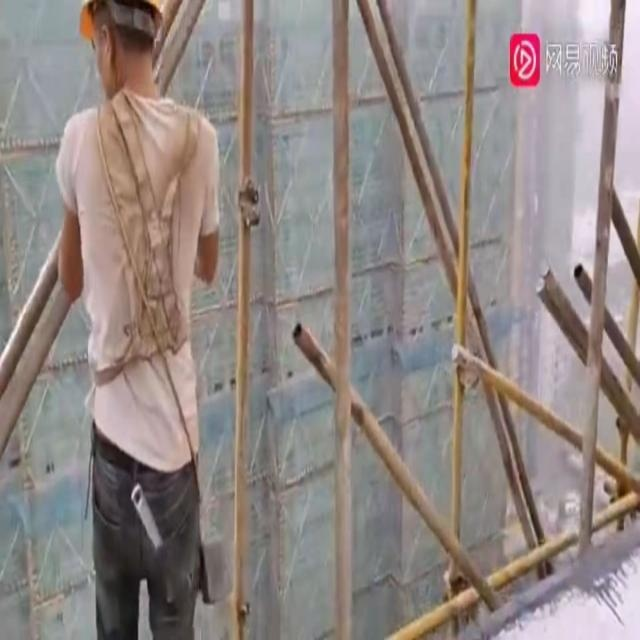Arnes_seguridad: (70, 89, 206, 412)
